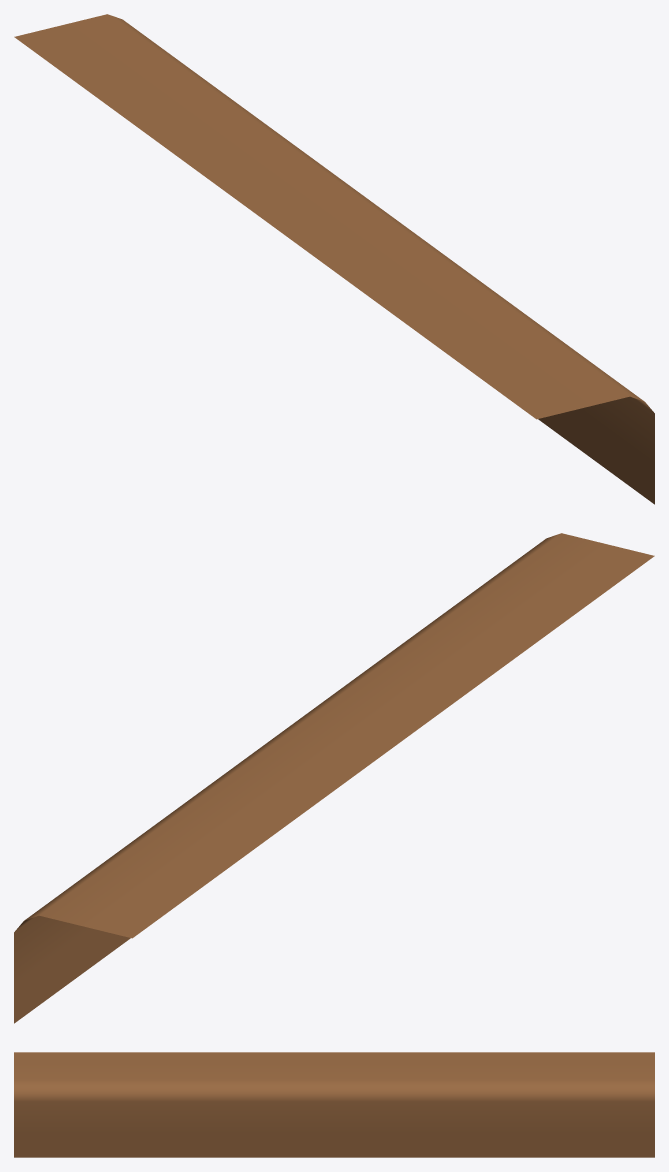
File: groundhoneyBB.fbx
3 renders of one model, top to bottom at view 1: azimuth 30°, elevation 25°; view 2: azimuth 150°, elevation 25°; view 3: azimuth 270°, elevation 25°, orthographic. The views are drawn at different scales.
Visible parts, largest first — view 1: pCube1; view 2: pCube1; view 3: pCube1.
Boxes of the visible parts, left/top/right/bottom form: pCube1: left=14, top=14, right=654, bottom=504; pCube1: left=14, top=533, right=654, bottom=1023; pCube1: left=14, top=1052, right=654, bottom=1157.
Size of the model in its own units: 3.81 by 3.52 by 29.13.
